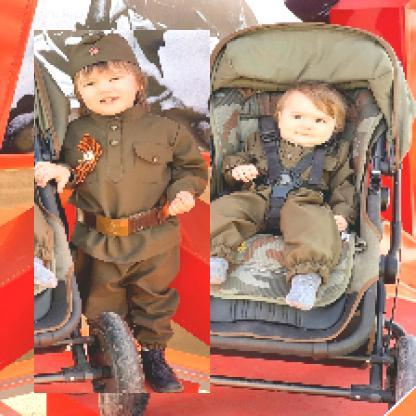child: (35, 32, 212, 396), (190, 81, 361, 312)
